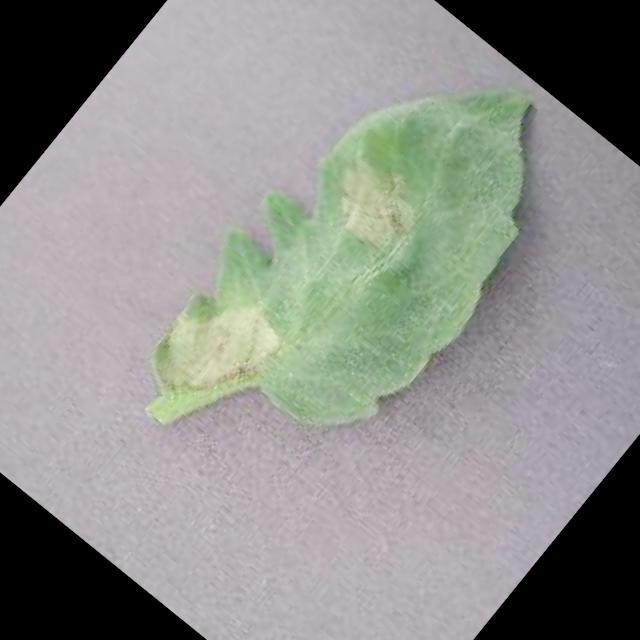Tomato late blight leaf: (123, 0, 608, 515)
